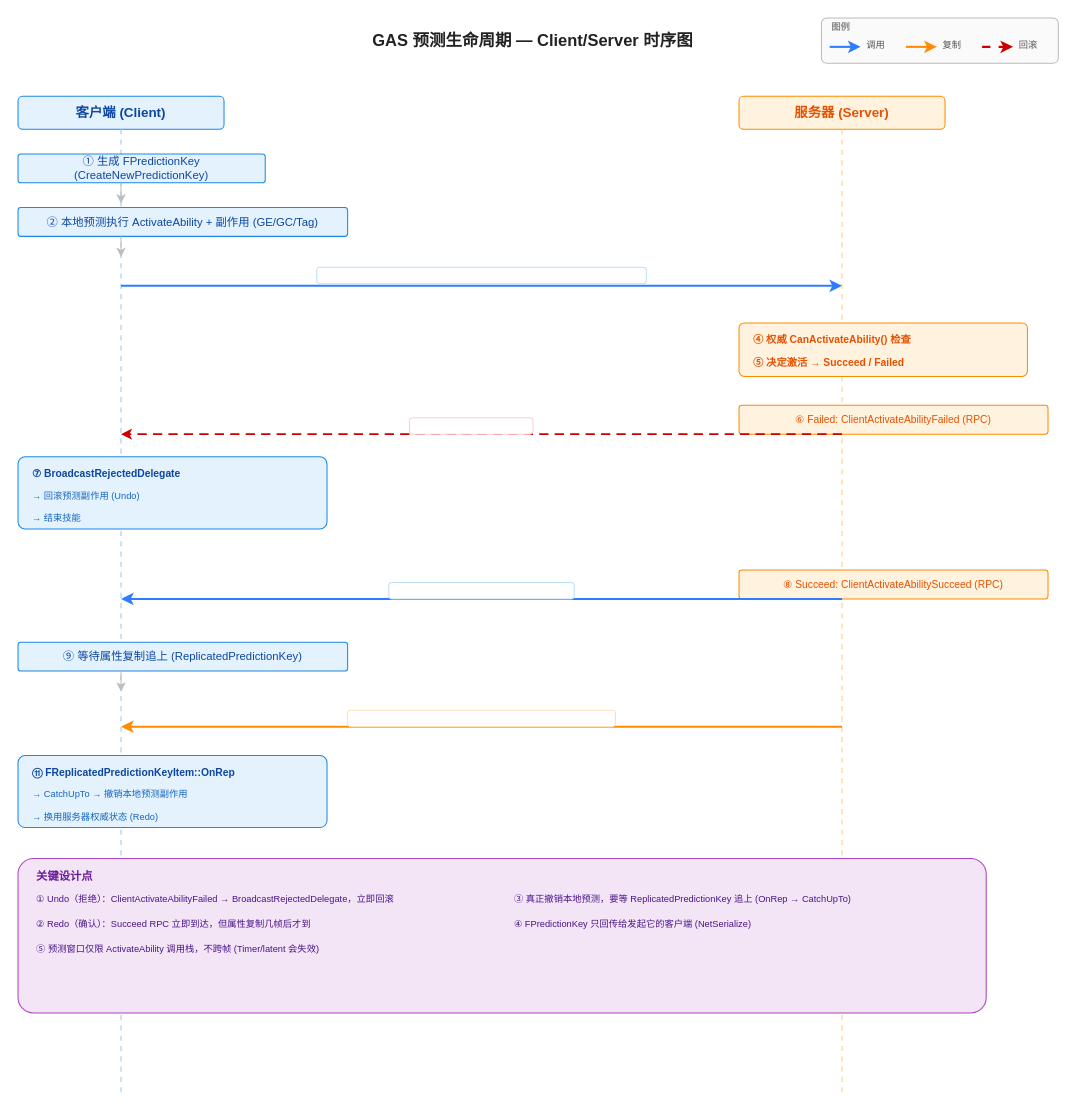
The diagram is 1076 pixels wide and 1114 high, and some of its shapes have lost their labels. The centre of each missing label's shape, as x and y in pixels:
"③ ServerTryActivateAbility (RPC, 带 PredictionKey)" goes at pixel 481 275.
"⑩ 服务器权威 GE/属性 复制到客户端" goes at pixel 481 718.
"服务器拒绝" goes at pixel 470 425.
"服务器确认 (立即到达)" goes at pixel 481 590.
